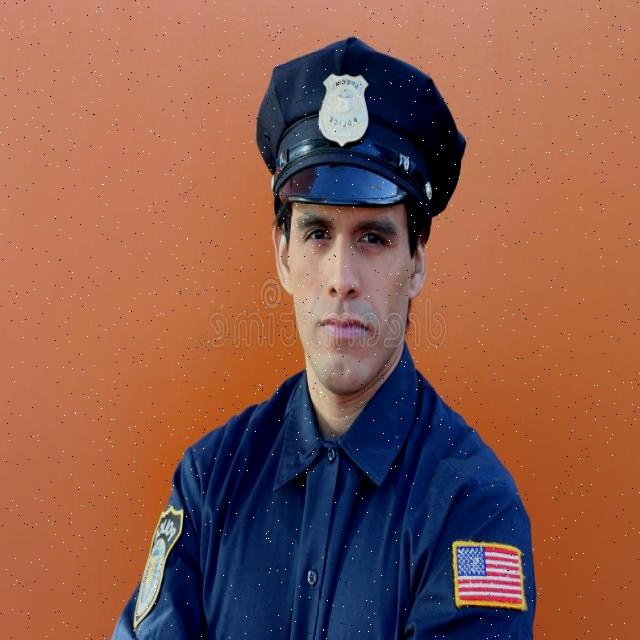police: (102, 0, 573, 640)
